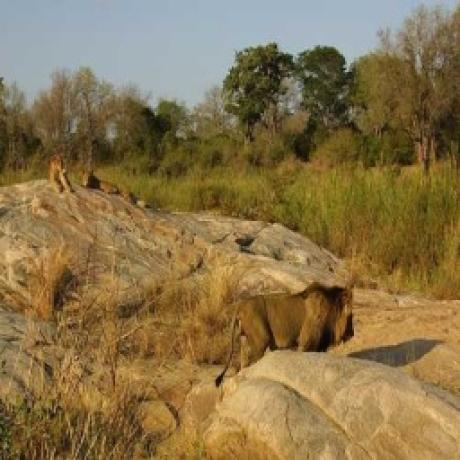Lion: (211, 279, 360, 381)
